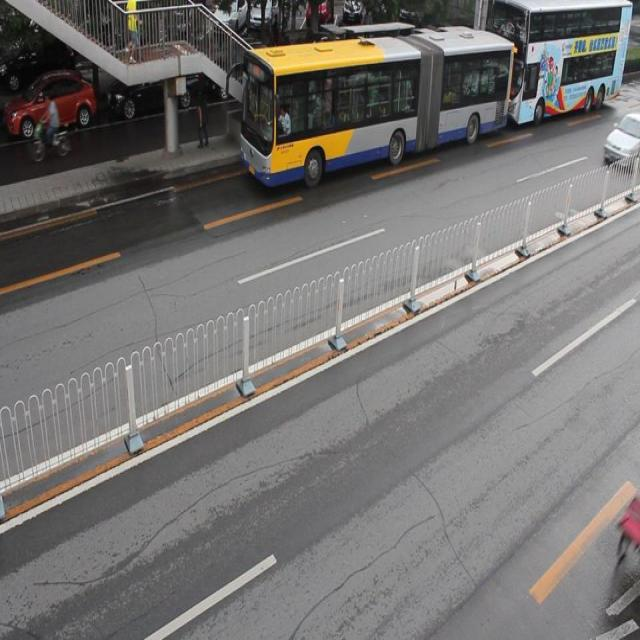car: (0, 71, 96, 138), (104, 57, 198, 114), (206, 39, 277, 103), (291, 42, 363, 98), (601, 112, 640, 168)
van: (243, 29, 513, 184), (488, 1, 630, 126)
